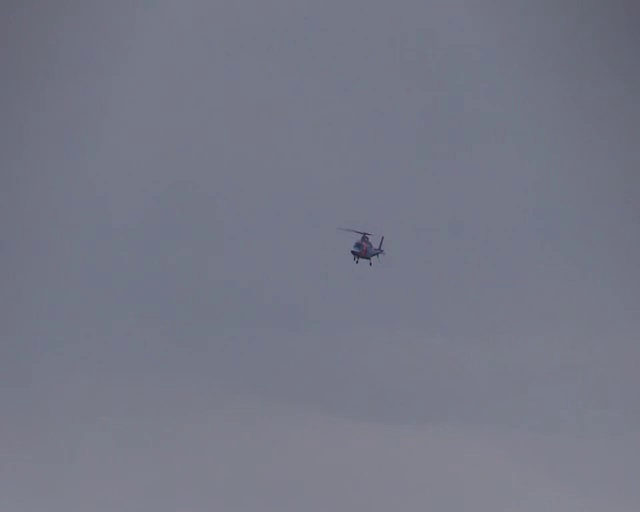HELICOPTER: (337, 226, 387, 266)
